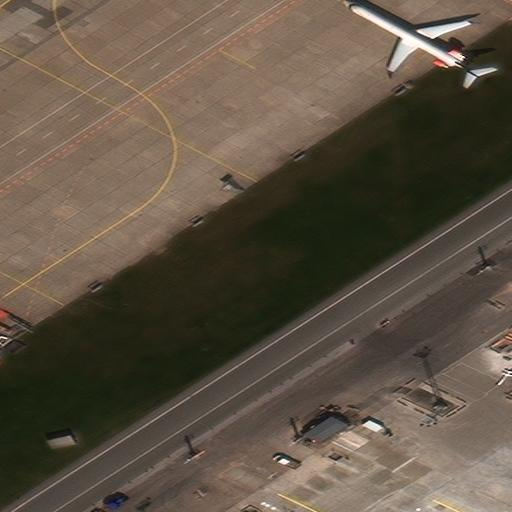Medium Civil Transport: (342, 0, 481, 79)
